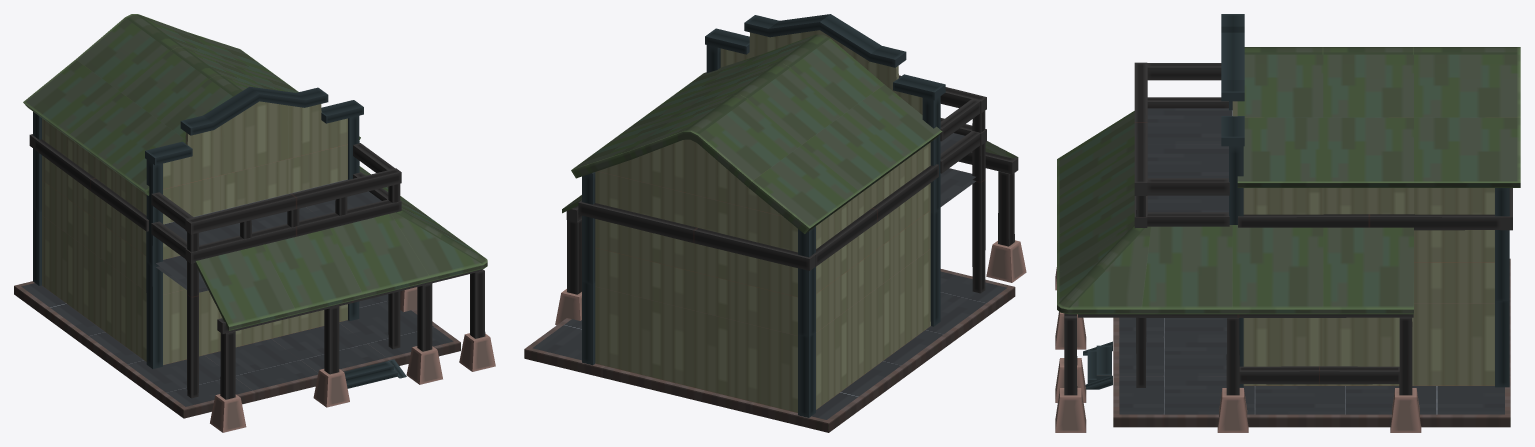
Rendered from house_v3_blank_ncl1_4.fbx.
The picture shows the model from 3 angles, left to right: view 1: azimuth 30°, elevation 25°; view 2: azimuth 150°, elevation 25°; view 3: azimuth 270°, elevation 25°; orthographic projection. The views are drawn at different scales.
Visible parts, largest first — view 1: house_v3_blank; view 2: house_v3_blank; view 3: house_v3_blank.
Part boxes in pixels (x1,y1,x2,y2): house_v3_blank: [14, 14, 495, 432]; house_v3_blank: [524, 14, 1026, 432]; house_v3_blank: [1055, 14, 1520, 432].
Size of the model in its own units: 857 by 744 by 1026.
